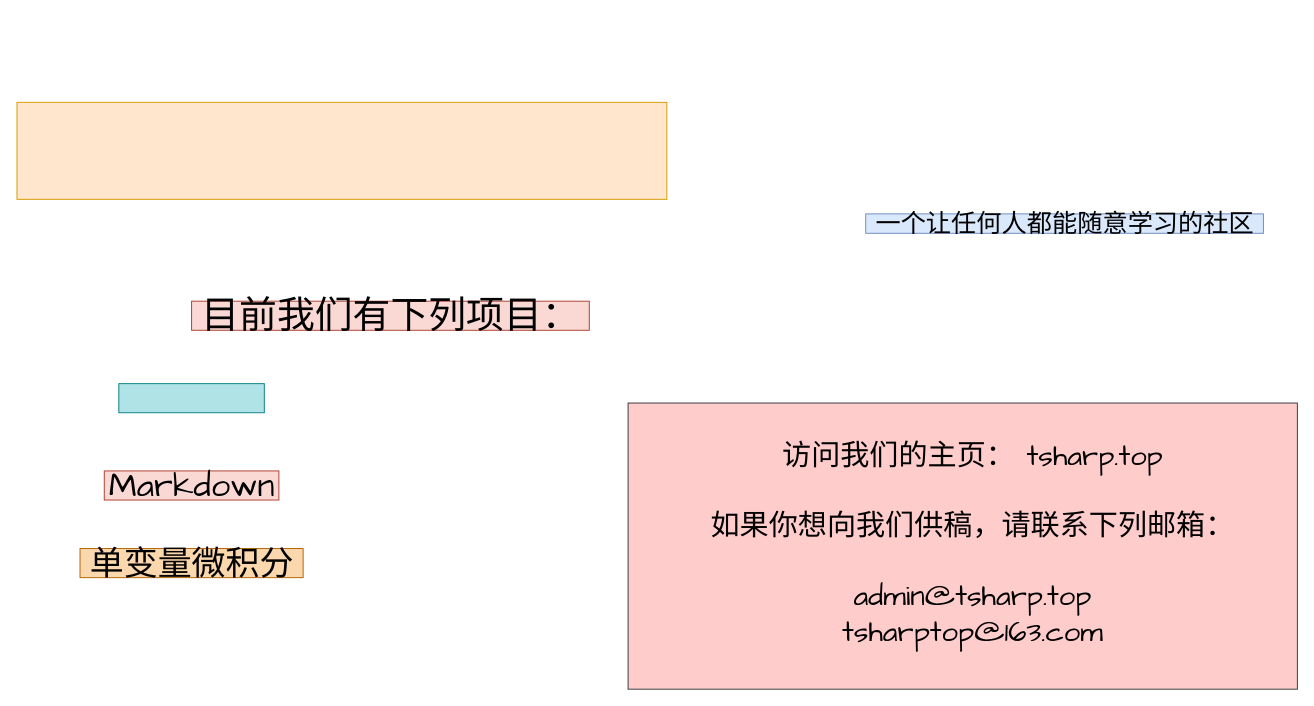
This 1314x706 diagram has some shape labels left out. Each missing label, with the centre of its shape:
Git 基础: point 191,398
Tsharp: point 341,150
